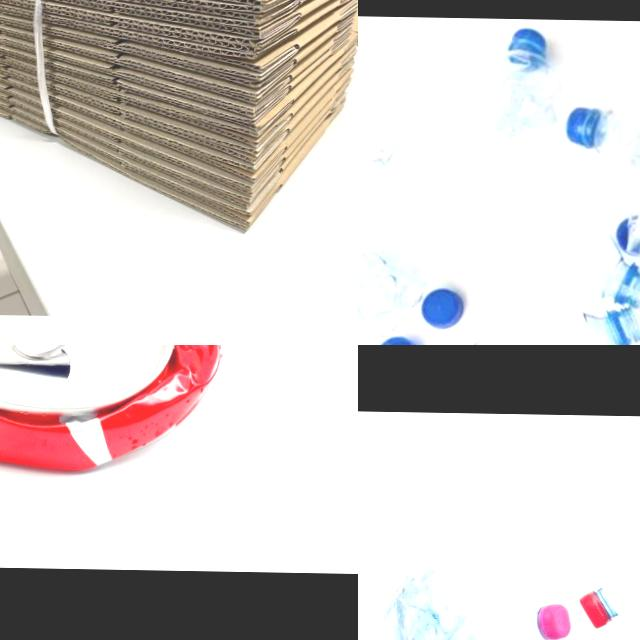garrafa plástica: (358, 134, 640, 311), (371, 556, 543, 640), (358, 298, 640, 345), (466, 47, 560, 148), (358, 235, 427, 336), (592, 103, 640, 191)
lata: (0, 345, 228, 476)
papelão: (0, 0, 358, 237)
tampa plástica: (420, 290, 464, 329), (576, 590, 610, 630), (534, 603, 570, 640), (564, 104, 594, 146), (617, 214, 640, 256), (513, 25, 546, 51), (373, 335, 419, 345)
